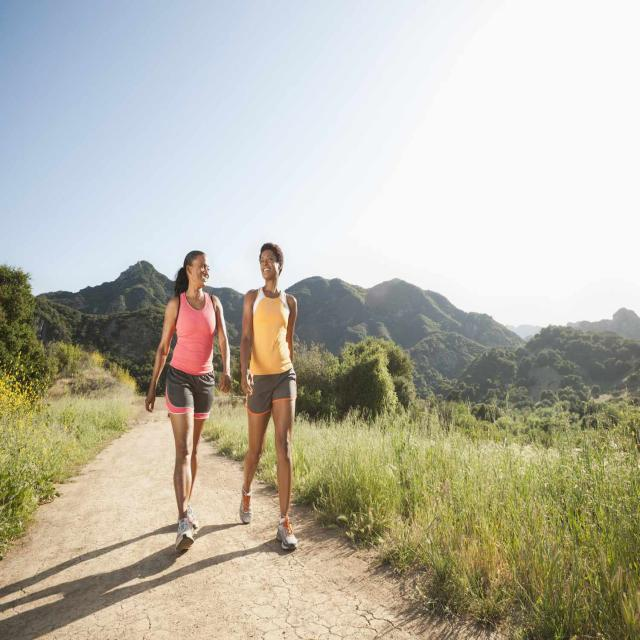Person: (146, 250, 230, 552), (240, 241, 297, 550)
